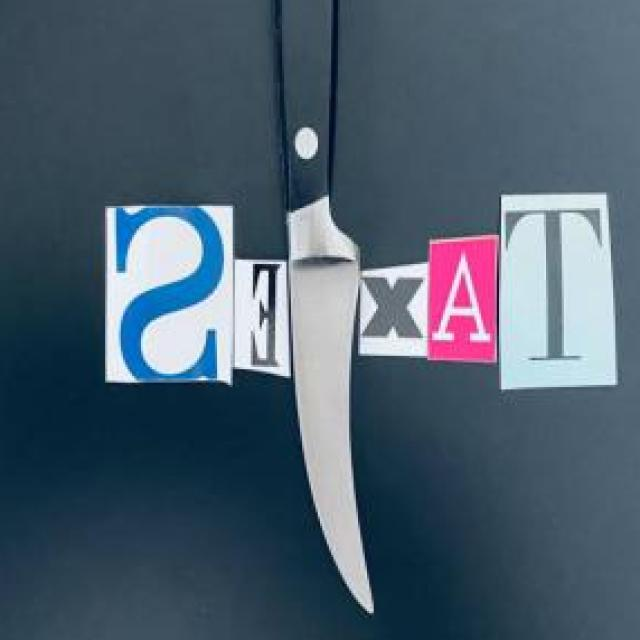knife: (269, 0, 381, 615)
